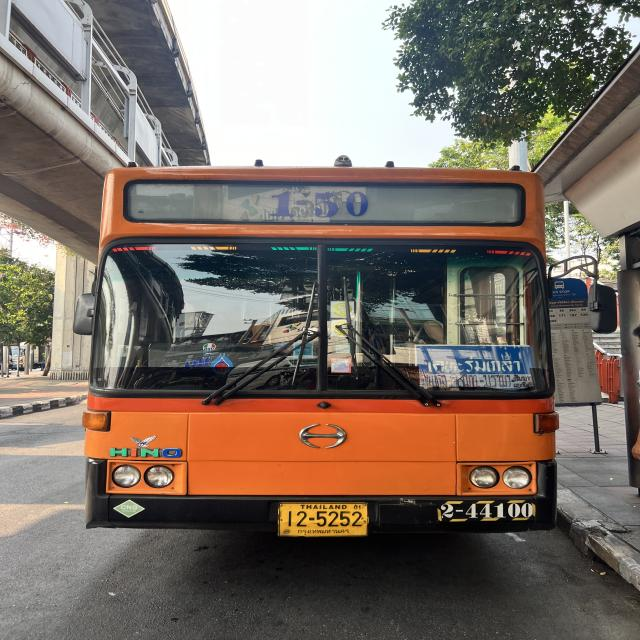BMTA-bus: (80, 164, 560, 541)
Bus-Line-Number: (266, 185, 376, 222)
Destination-Sign-Normal: (415, 344, 539, 392)
